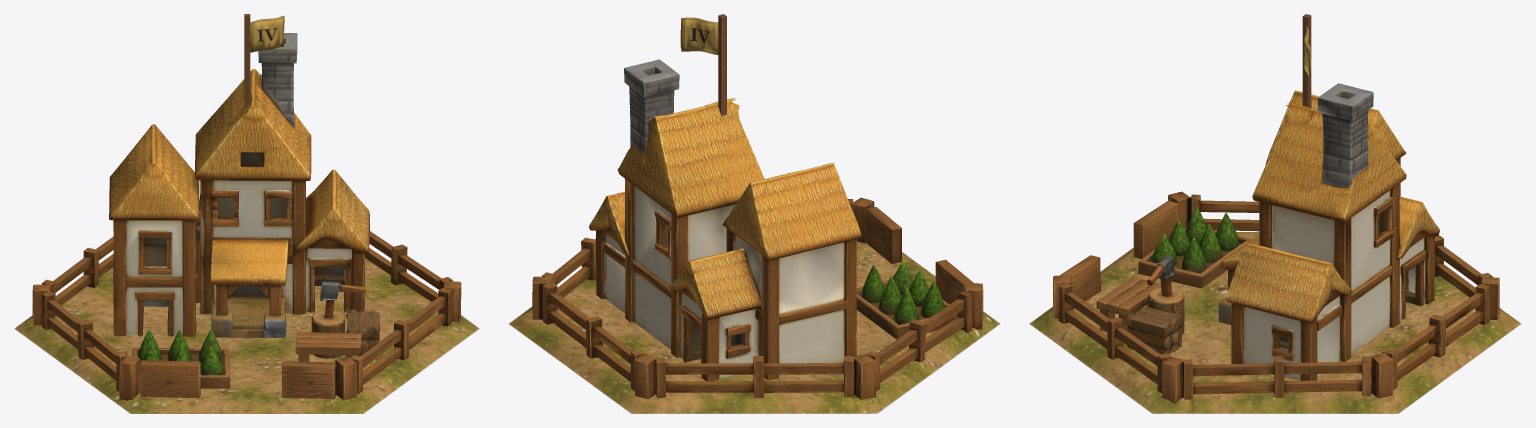
The model's file is workers-hut-4.glb.
The picture shows the model from 3 angles, left to right: view 1: azimuth 30°, elevation 25°; view 2: azimuth 150°, elevation 25°; view 3: azimuth 270°, elevation 25°; orthographic projection. The views are drawn at different scales.
Parts seen in each view (by area): view 1: architecture, ground, tier-banner; view 2: architecture, ground, tier-banner; view 3: architecture, ground.
Part boxes in pixels (x1,y1,x2,y2): architecture: [32, 14, 461, 400]; ground: [14, 258, 479, 413]; tier-banner: [250, 16, 284, 52]; architecture: [532, 14, 983, 399]; ground: [509, 241, 999, 413]; tier-banner: [680, 17, 718, 54]; architecture: [1053, 14, 1499, 403]; ground: [1029, 232, 1521, 413].
Bounding box in the file's own units: 1.59 × 1.3 × 1.84.
Materials: 3 (3 with a texture image).
